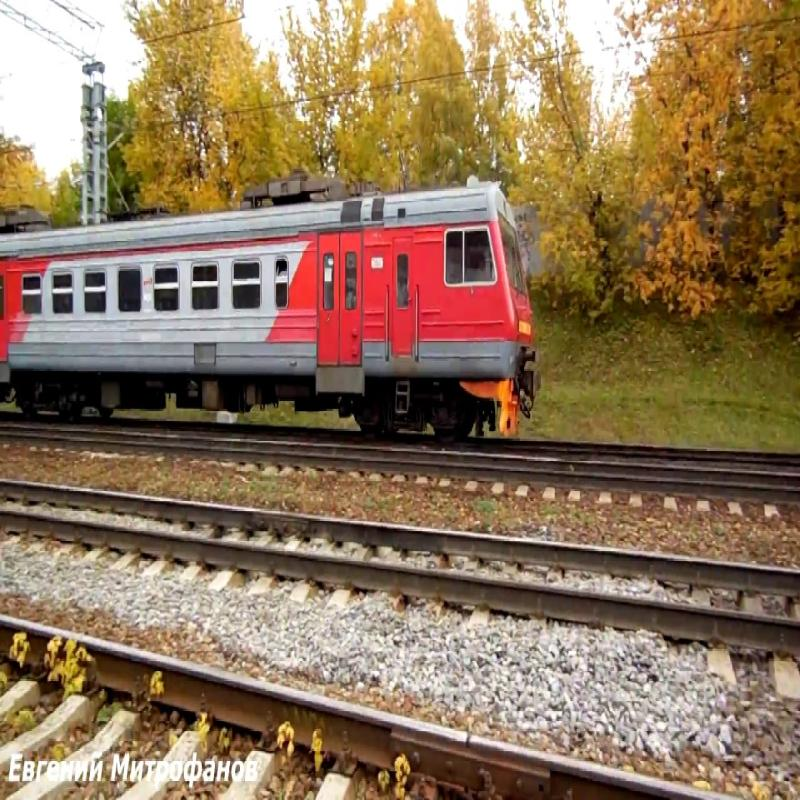train: (1, 147, 552, 453)
